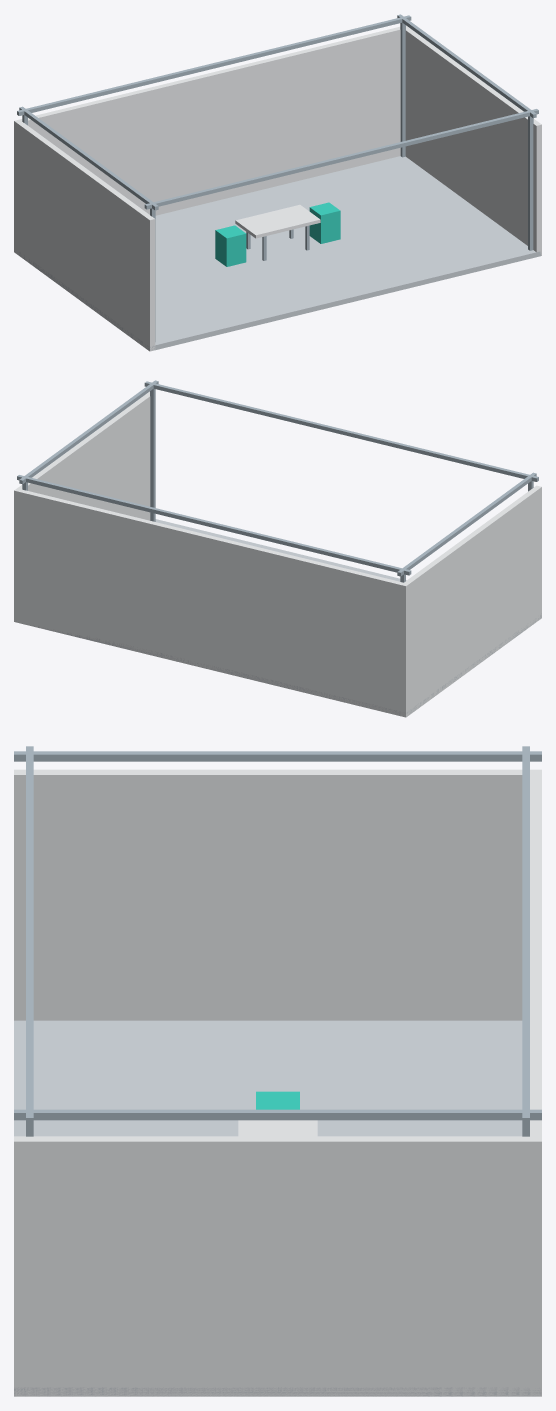
The picture shows the model from 3 angles, top to bottom: view 1: azimuth 30°, elevation 25°; view 2: azimuth 150°, elevation 25°; view 3: azimuth 270°, elevation 25°; orthographic projection. The views are drawn at different scales.
Parts seen in each view (by area): view 1: Exhibition Booth Concept; view 2: Exhibition Booth Concept; view 3: Exhibition Booth Concept.
Part boxes in pixels (x1,y1,x2,y2): Exhibition Booth Concept: [14, 14, 541, 351]; Exhibition Booth Concept: [14, 380, 541, 717]; Exhibition Booth Concept: [14, 746, 541, 1396].
Bounding box in the file's own units: 10 × 3.49 × 6.
